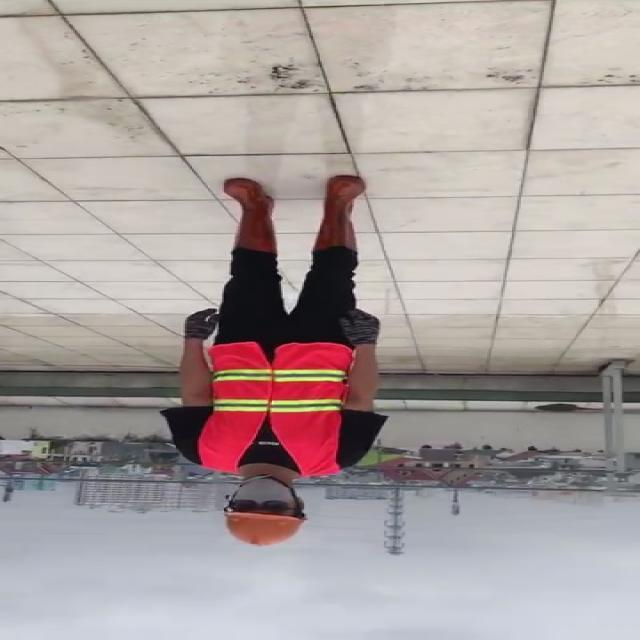Boots: (220, 180, 280, 251), (315, 176, 368, 252)
Gloves: (342, 308, 381, 346), (183, 307, 221, 341)
Helmet: (219, 512, 305, 550)
Vest: (199, 340, 354, 478)
